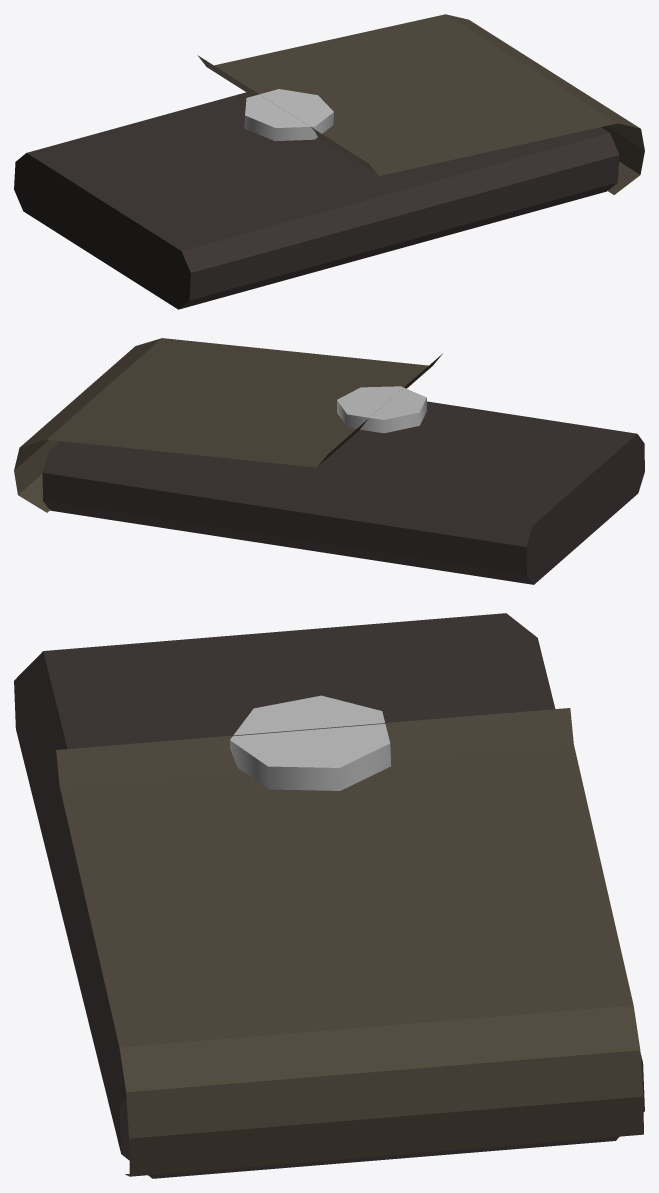
The model's file is SM_pouch_01.fbx.
3 renders of one model, top to bottom at view 1: azimuth 30°, elevation 25°; view 2: azimuth 150°, elevation 25°; view 3: azimuth 270°, elevation 25°, orthographic. The views are drawn at different scales.
Visible parts, largest first — view 1: pouch_01; view 2: pouch_01; view 3: pouch_01.
Boxes of the visible parts, left/top/right/bottom form: pouch_01: left=14, top=14, right=644, bottom=309; pouch_01: left=14, top=338, right=644, bottom=584; pouch_01: left=14, top=613, right=644, bottom=1178.
Size of the model in its own units: 24.83 by 5.62 by 14.8.
